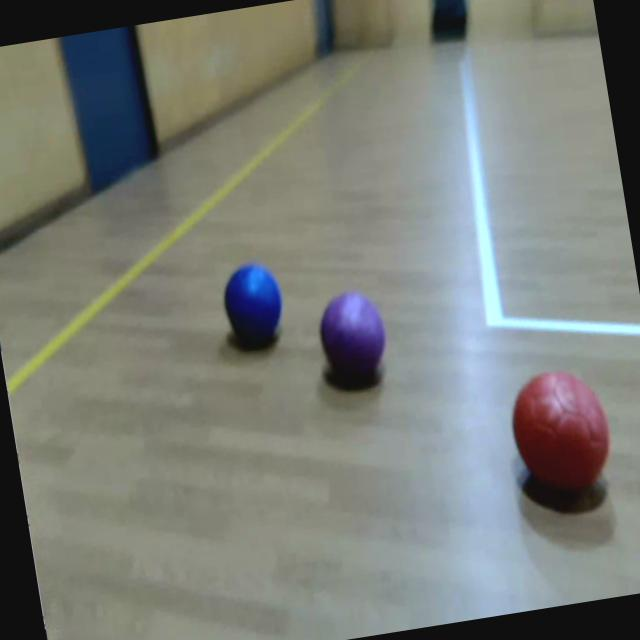blue_ball: (218, 258, 288, 348)
purple_ball: (314, 286, 390, 381)
red_ball: (506, 363, 618, 497)
